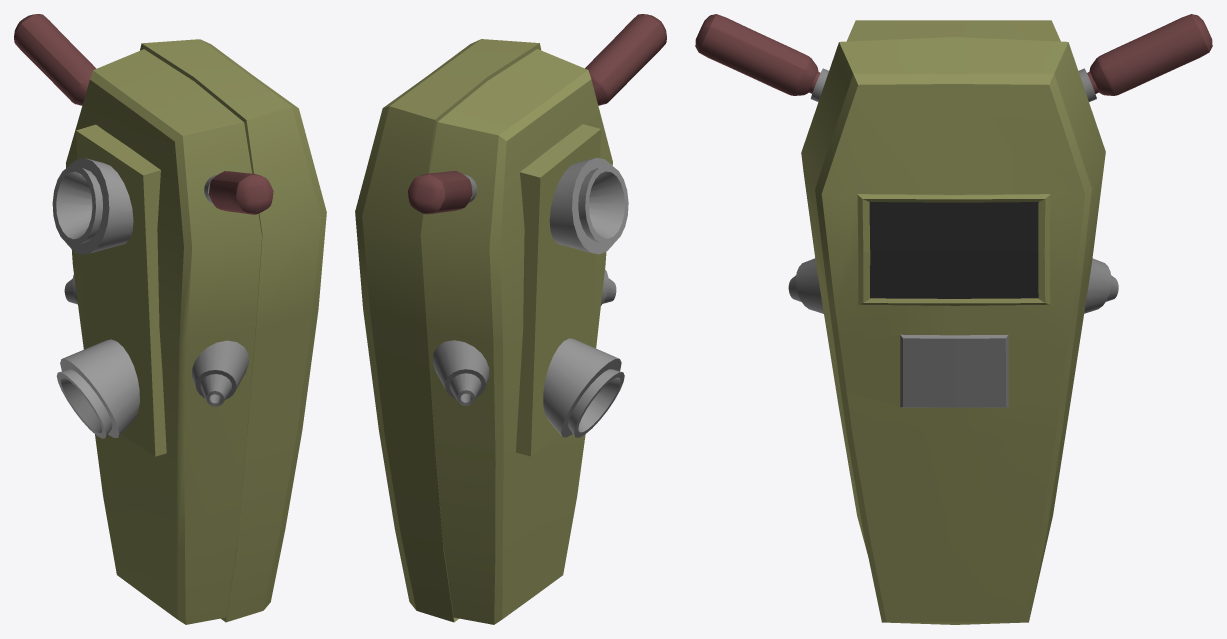
Rendered from POD.fbx.
3 views of the same model, side by side, from view 1: azimuth 30°, elevation 25°; view 2: azimuth 150°, elevation 25°; view 3: azimuth 270°, elevation 25° (orthographic). The views are drawn at different scales.
Parts seen in each view (by area): view 1: Pod3; view 2: Pod3; view 3: Pod3.
Part boxes in pixels (box(x1,y1,x2,y2)): Pod3: box(14, 14, 326, 624); Pod3: box(355, 14, 666, 624); Pod3: box(695, 14, 1212, 624).
Size of the model in its own units: 102 by 248 by 204.
1 material, 1 textured.
